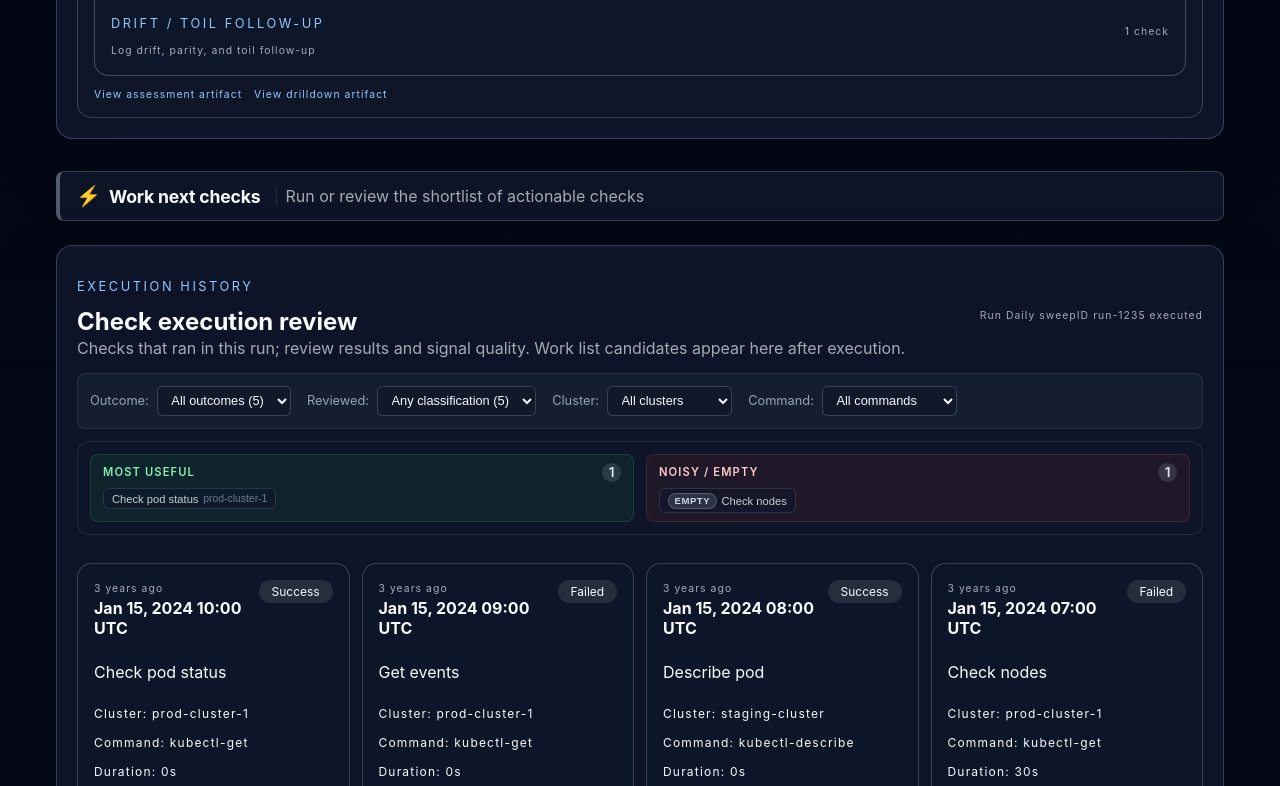
Scenario: ExecutionHistoryPanel UI tests › cluster and command filter visibility › filters by command family when selected
(page scrolled)
# Find and use the command filter
Select "kubectl-describe" in the dropdown labelled "Command:" at (890, 401), box 822,386 -> 957,416
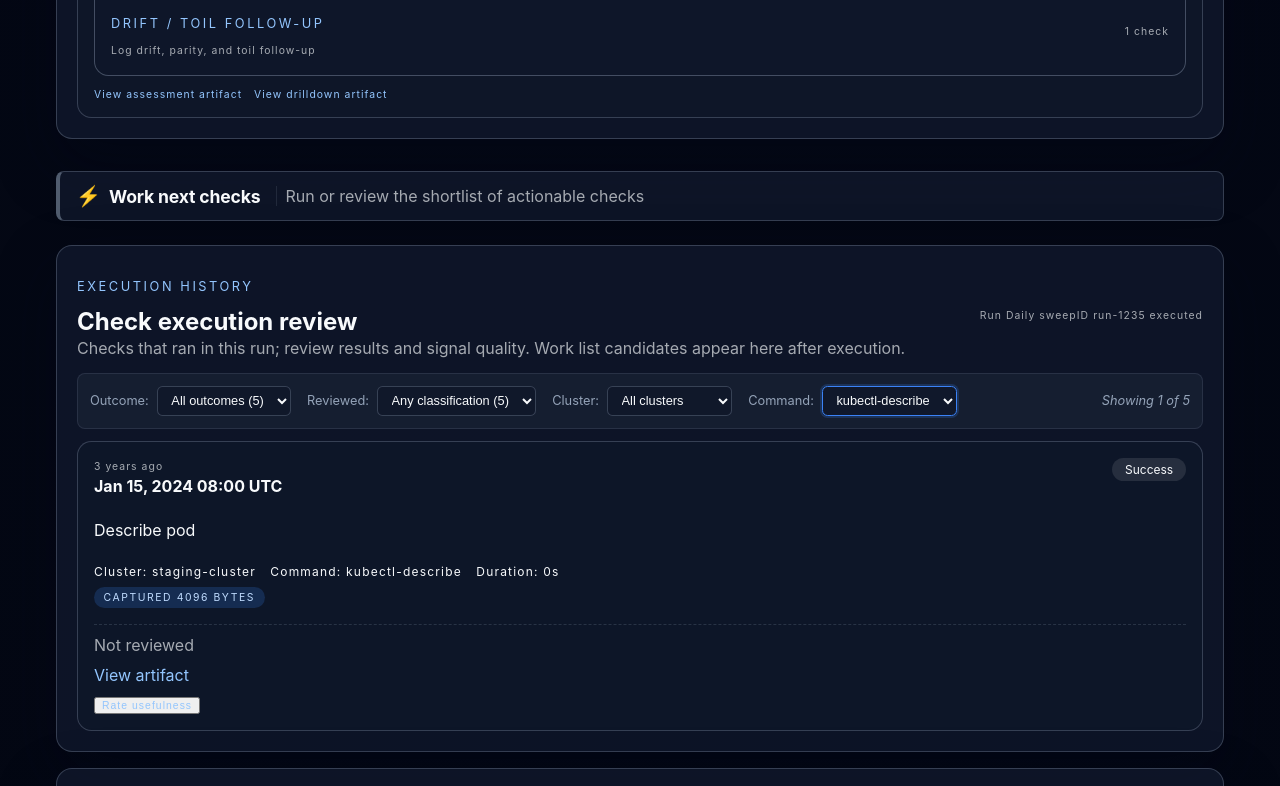
Expected: the text "Showing 1 of 5" is shown, 1102,393 -> 1190,408
